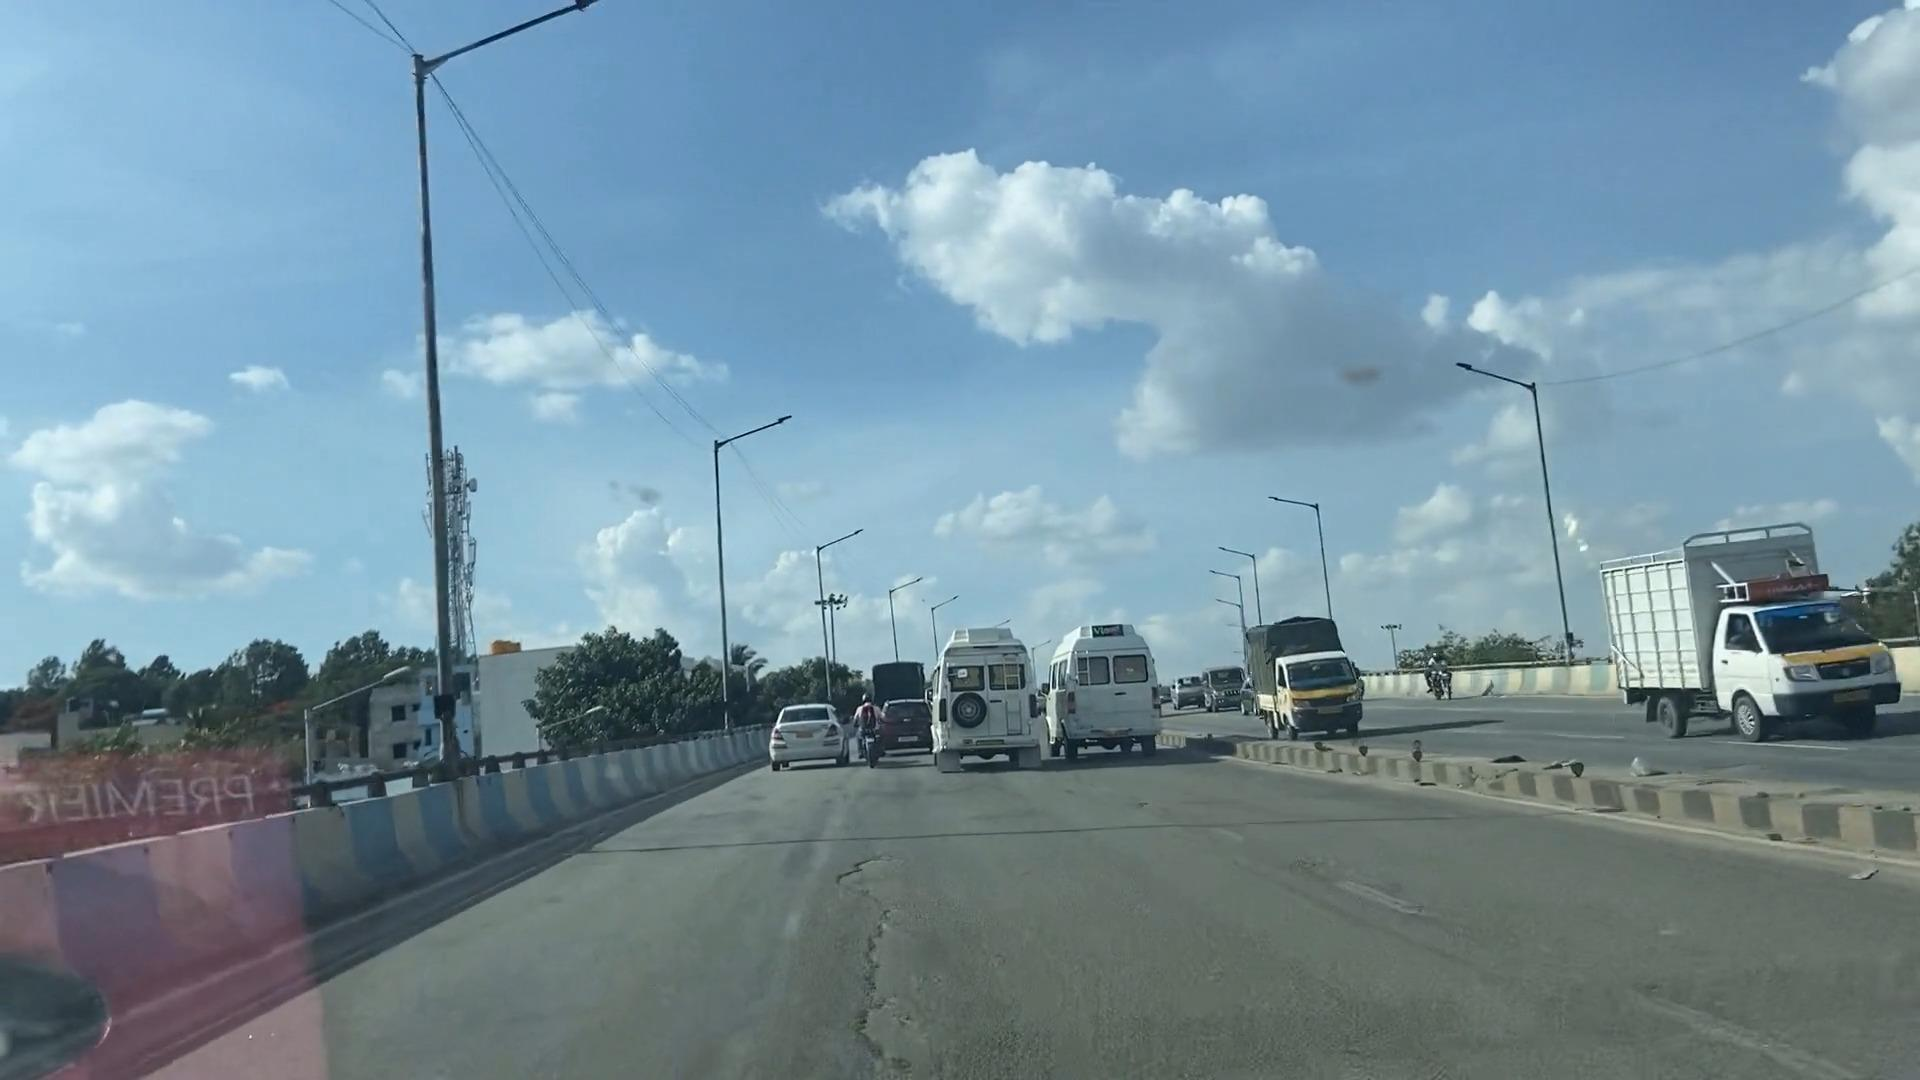HMV: (1040, 603, 1183, 777), (913, 616, 1055, 761)
LMV: (762, 692, 856, 773)
RoadDamages: (785, 824, 1113, 1080)
